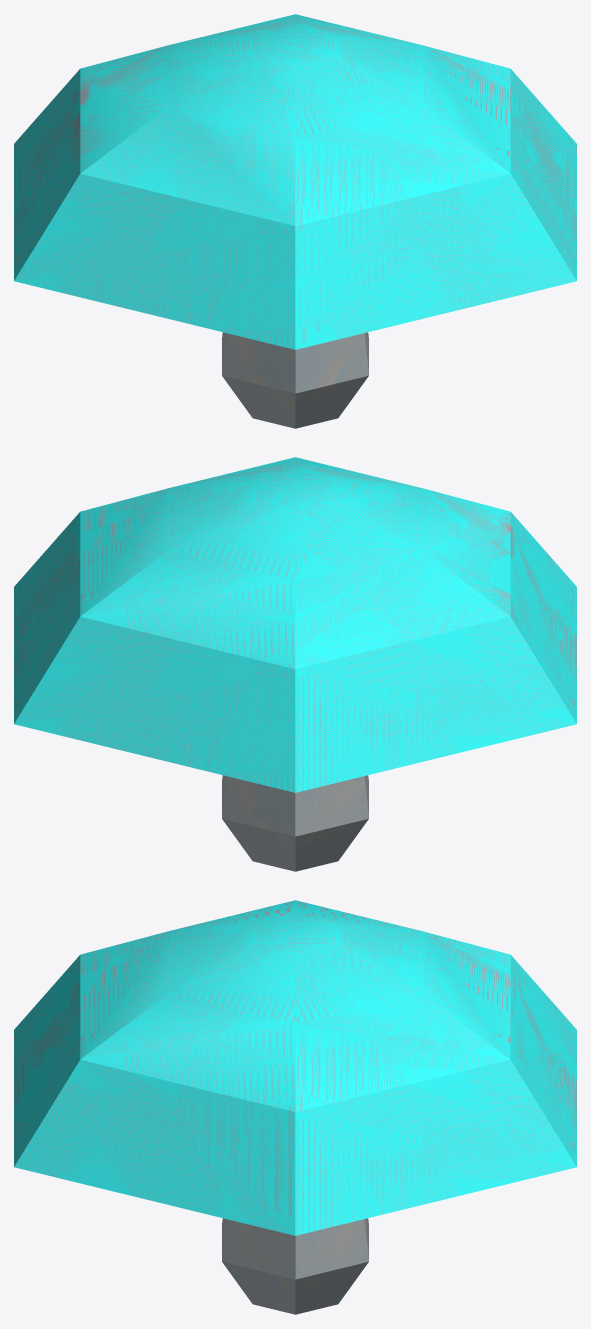
Rendered from Mushroom_06.fbx.
The picture shows the model from 3 angles, top to bottom: view 1: azimuth 30°, elevation 25°; view 2: azimuth 150°, elevation 25°; view 3: azimuth 270°, elevation 25°; orthographic projection.
Parts seen in each view (by area): view 1: Model; view 2: Model; view 3: Model.
Boxes of the visible parts, x1,y1,x2,y2 form: Model: [14, 14, 576, 428]; Model: [14, 457, 576, 871]; Model: [14, 900, 576, 1314].
Size of the model in its own units: 75.63 by 46.23 by 65.49.
